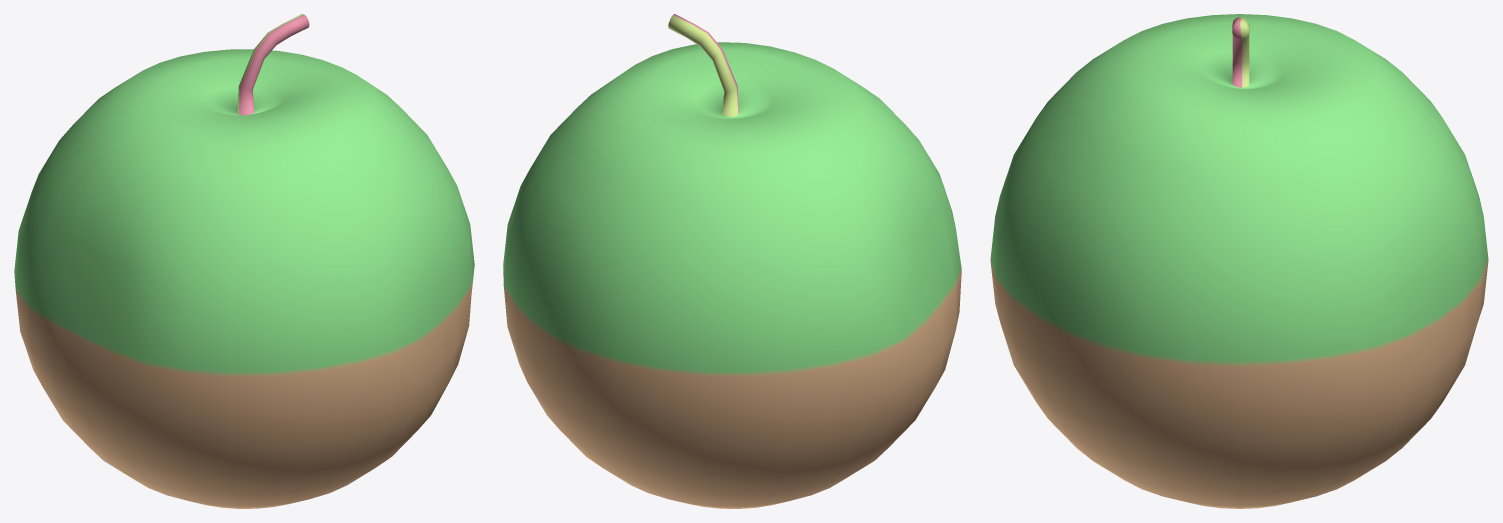
Rendered from apple.fbx.
The picture shows the model from 3 angles, left to right: view 1: azimuth 30°, elevation 25°; view 2: azimuth 150°, elevation 25°; view 3: azimuth 270°, elevation 25°; orthographic projection. The views are drawn at different scales.
Visible parts, largest first — view 1: Sphere; view 2: Sphere; view 3: Sphere.
Boxes of the visible parts, x1,y1,x2,y2 form: Sphere: [14, 14, 474, 508]; Sphere: [503, 14, 961, 508]; Sphere: [990, 14, 1488, 508].
Size of the model in its own units: 368 by 394 by 374.
Materials: 1 (1 with a texture image).
